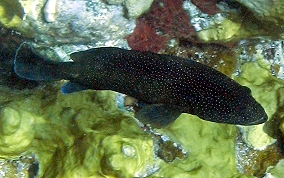Cephalopholis_fulvaw: (11, 36, 270, 132)
